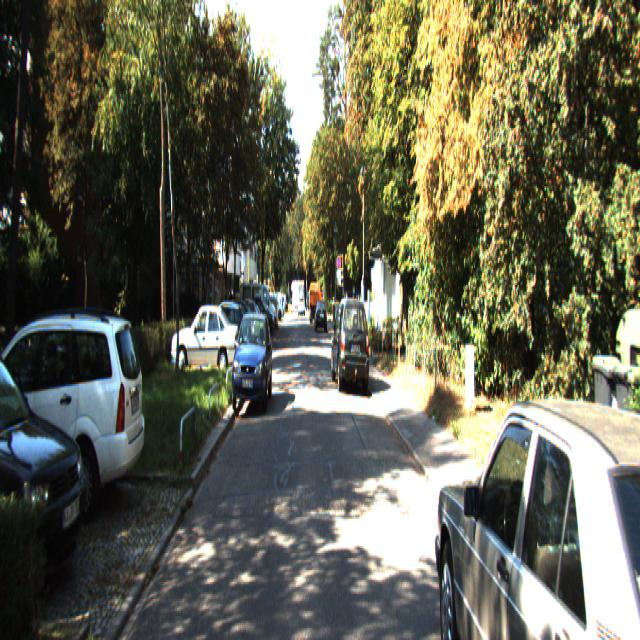Car: (434, 372, 639, 638), (0, 312, 149, 529), (0, 314, 88, 613), (171, 308, 240, 385), (232, 317, 274, 420), (331, 298, 368, 398), (240, 282, 277, 332)
